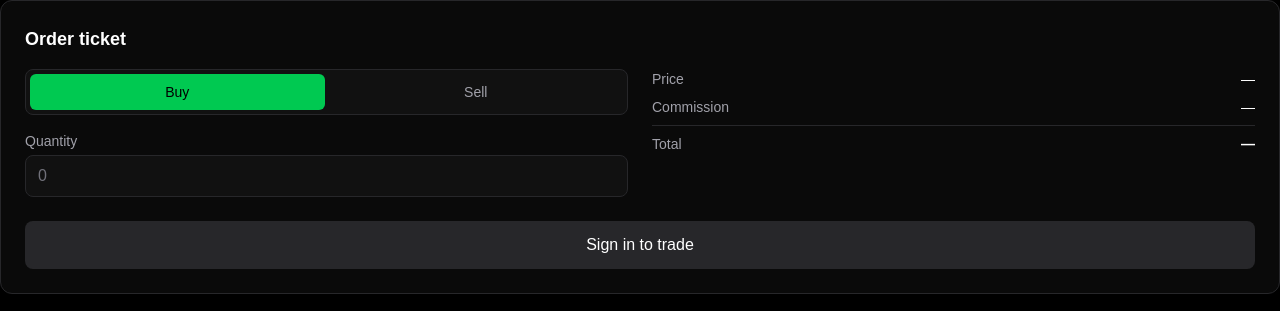
Test: OrderTicket › signed out: previews but links to sign in instead of submitting
Step 1. Type "10" into the number field labelled "Quantity" → (326, 176), box [25,155,628,197]
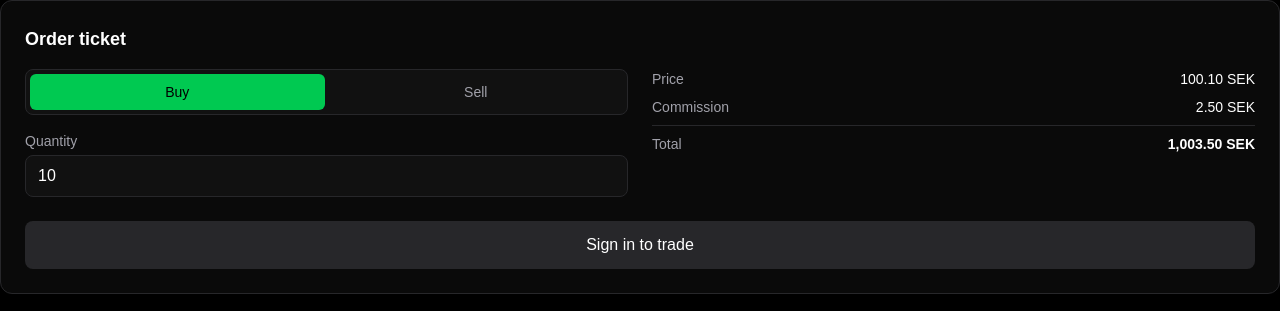
Now the text "1,003.50 SEK" is shown, box [1168,134,1255,154]
